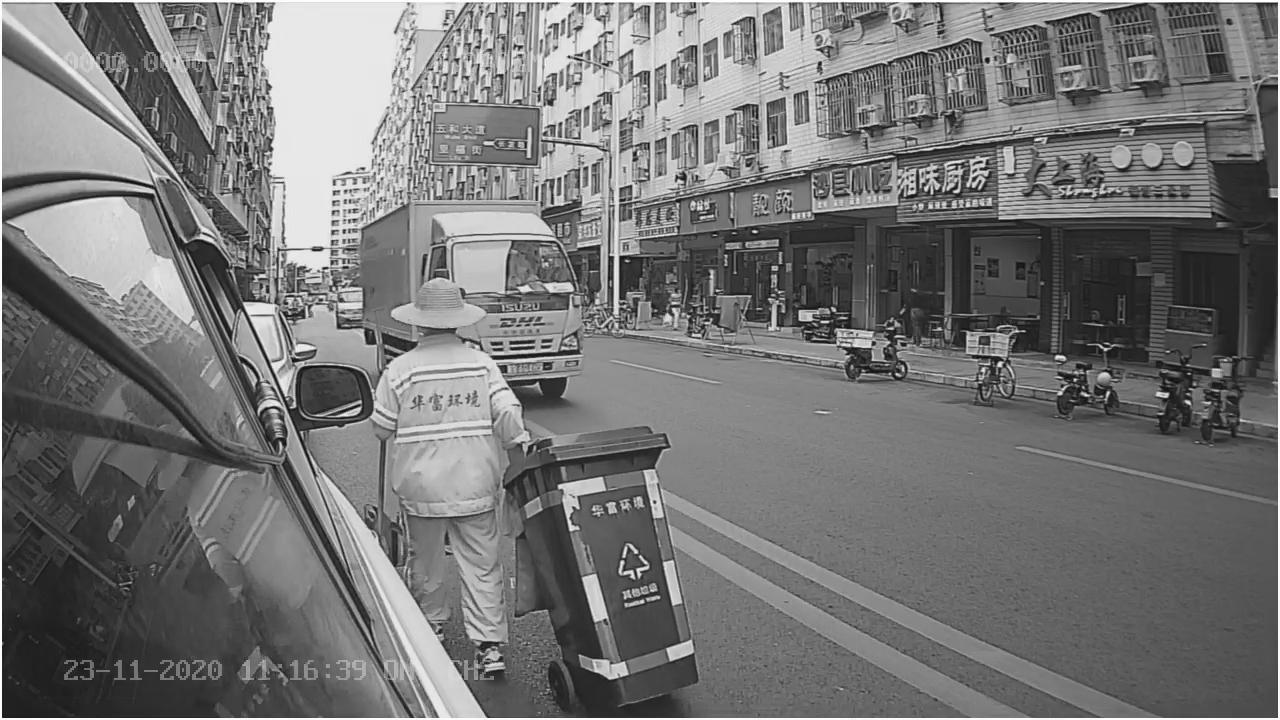person: (383, 268, 531, 452)
